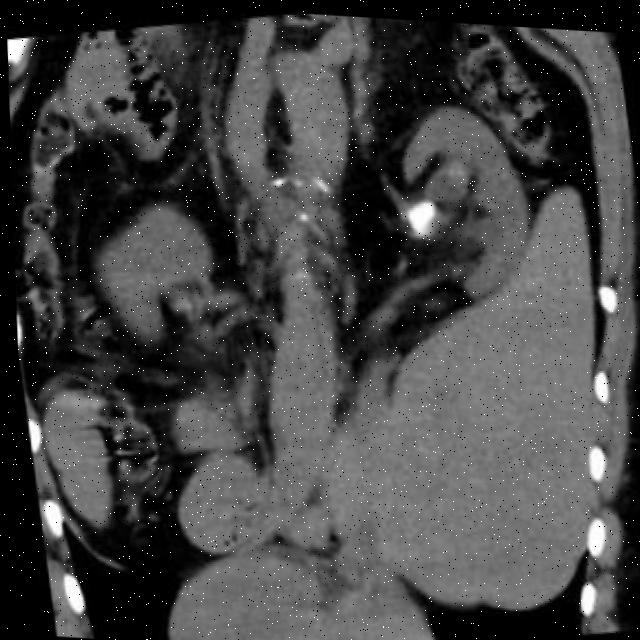Tas_Var: (399, 189, 441, 237)
